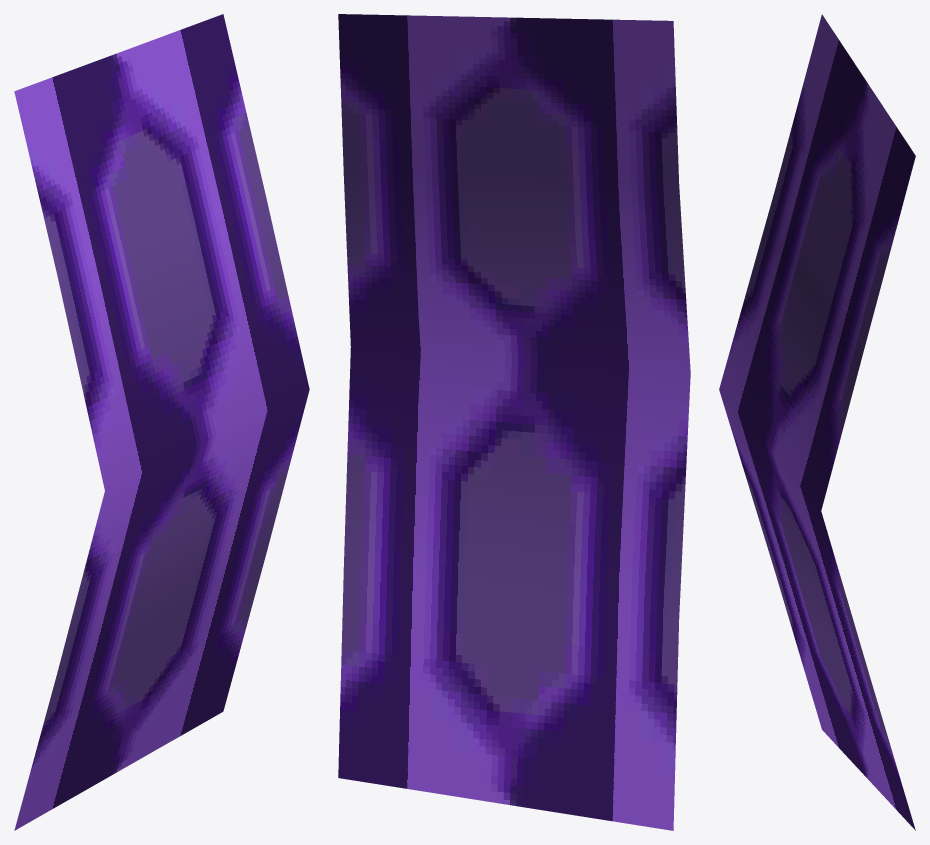
File: acc_glass_ppl.dae
3 renders of one model, left to right at view 1: azimuth 30°, elevation 25°; view 2: azimuth 150°, elevation 25°; view 3: azimuth 270°, elevation 25°, orthographic. The views are drawn at different scales.
Parts seen in each view (by area): view 1: acc_glass_ppl; view 2: acc_glass_ppl; view 3: acc_glass_ppl.
Part boxes in pixels (<box>): acc_glass_ppl: <box>14,14,309,830</box>; acc_glass_ppl: <box>338,14,690,830</box>; acc_glass_ppl: <box>719,14,915,830</box>.
Bounding box in the file's own units: 9.57 × 22.93 × 5.71.
Materials: 1 (1 with a texture image).
